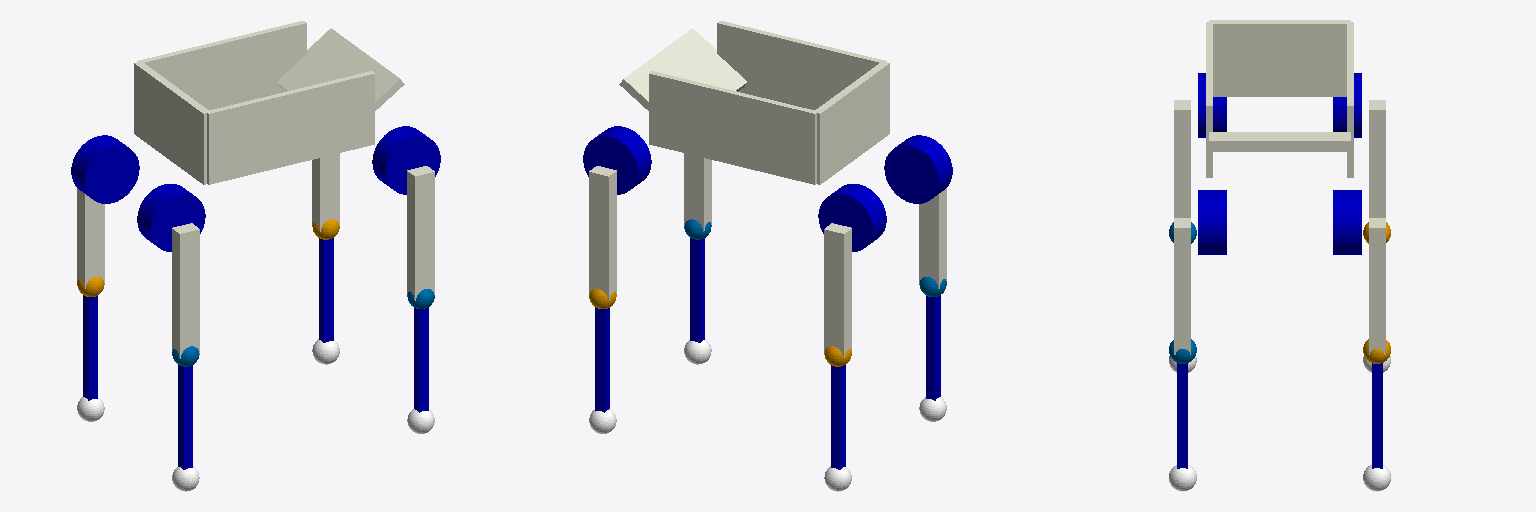
--- What the picture shows (computed from the rendered views, not written in the file) ---
The picture shows the robot from 3 angles, left to right: view 1: azimuth 30°, elevation 25°; view 2: azimuth 150°, elevation 25°; view 3: azimuth 270°, elevation 25°; orthographic projection.
Model wr2 with 19 links and 18 joints (12 revolute, 6 fixed), rooted at base, posed every joint at zero.
Links seen in each view (by area): view 1: trunk, RR_thigh, FR_thigh, RL_hip, FR_hip, RR_hip, RL_thigh, FL_thigh, FR_calf, RL_calf, FL_calf, RR_calf (+4 smaller); view 2: trunk, RL_thigh, FL_thigh, RR_hip, FL_hip, RL_hip, RR_thigh, FR_thigh, FL_calf, RR_calf, FR_calf, RL_calf (+4 smaller); view 3: trunk, FR_thigh, FL_thigh, RR_thigh, RL_thigh, FR_hip, FL_hip, FR_calf, FL_calf, RR_hip, RL_hip, FR_foot (+1 smaller).
Link boxes in pixels (left/top/right/bottom): trunk: left=134, top=21, right=404, bottom=184; RR_thigh: left=172, top=223, right=199, bottom=366; FR_thigh: left=407, top=166, right=434, bottom=308; RL_hip: left=71, top=135, right=139, bottom=203; FR_hip: left=372, top=126, right=440, bottom=194; RR_hip: left=137, top=184, right=205, bottom=251; RL_thigh: left=77, top=188, right=104, bottom=296; FL_thigh: left=312, top=153, right=339, bottom=239; FR_calf: left=414, top=307, right=428, bottom=412; RL_calf: left=83, top=295, right=97, bottom=400; FL_calf: left=319, top=238, right=333, bottom=342; RR_calf: left=178, top=365, right=192, bottom=469; trunk: left=619, top=21, right=889, bottom=184; RL_thigh: left=824, top=223, right=851, bottom=366; FL_thigh: left=589, top=166, right=616, bottom=308; RR_hip: left=884, top=135, right=952, bottom=203; FL_hip: left=583, top=126, right=651, bottom=194; RL_hip: left=818, top=184, right=886, bottom=251; RR_thigh: left=919, top=188, right=946, bottom=296; FR_thigh: left=684, top=153, right=711, bottom=239; FL_calf: left=595, top=307, right=609, bottom=412; RR_calf: left=926, top=295, right=940, bottom=400; FR_calf: left=690, top=238, right=704, bottom=342; RL_calf: left=831, top=365, right=845, bottom=469; trunk: left=1206, top=20, right=1353, bottom=177; FR_thigh: left=1169, top=218, right=1196, bottom=363; FL_thigh: left=1363, top=218, right=1390, bottom=363; RR_thigh: left=1169, top=100, right=1196, bottom=243; RL_thigh: left=1363, top=100, right=1390, bottom=243; FR_hip: left=1198, top=190, right=1226, bottom=254; FL_hip: left=1333, top=190, right=1361, bottom=254; FR_calf: left=1177, top=363, right=1187, bottom=468; FL_calf: left=1372, top=363, right=1382, bottom=468; RR_hip: left=1198, top=73, right=1226, bottom=137; RL_hip: left=1333, top=73, right=1361, bottom=137; FR_foot: left=1169, top=465, right=1196, bottom=491.
Size in the robot's own frame: 0.487 by 0.3164 by 0.577 metres.
0 mesh visuals loaded from 1 distinct referenced files (none loaded); not drawn: 1 (reference not matched to a file when rendering).

The robot description file, URDF, robot "wr2":
<?xml version="1.0" encoding="utf-8"?>
<!-- =================================================================================== -->
<!-- |    This document was autogenerated by xacro from xacro/robot.xacro              | -->
<!-- |    EDITING THIS FILE BY HAND IS NOT RECOMMENDED                                 | -->
<!-- =================================================================================== -->
<robot name="wr2">
  <material name="black">
    <color rgba="0.0 0.0 0.0 1.0"/>
  </material>
  <material name="blue">
    <color rgba="0.0 0.0 0.8 1.0"/>
  </material>
  <material name="green">
    <color rgba="0.0 0.8 0.0 1.0"/>
  </material>
  <material name="grey">
    <color rgba="0.2 0.2 0.2 1.0"/>
  </material>
  <material name="silver">
    <color rgba="0.913725490196 0.913725490196 0.847058823529 1.0"/>
  </material>
  <material name="orange">
    <color rgba="1.0 0.423529411765 0.0392156862745 1.0"/>
  </material>
  <material name="brown">
    <color rgba="0.870588235294 0.811764705882 0.764705882353 1.0"/>
  </material>
  <material name="red">
    <color rgba="0.8 0.0 0.0 1.0"/>
  </material>
  <material name="white">
    <color rgba="1.0 1.0 1.0 1.0"/>
  </material>
 
  <link name="base">
    <visual>
      <origin rpy="0 0 0" xyz="0 0 0"/>
      <geometry>
        <box size="0.001 0.001 0.001"/>
      </geometry>
    </visual>
  </link>
  <joint name="floating_base" type="fixed">
    <origin rpy="0 0 0" xyz="0 0 0"/>
    <parent link="base"/>
    <child link="trunk"/>
  </joint>
  <link name="trunk">
    <visual name="body_visual">
      <origin rpy="0 0 0" xyz="0 0 0"/>
      <geometry>
        <mesh filename="meshes_wr/base_link.STL" scale="1 1 1"/>
        <box size="0.28 0.202 0.114"/>
      </geometry>
      <material name="silver"/>
    </visual>
    <collision name="body_collision">
      <origin rpy="0 0 0" xyz="0 0 0"/>
      <geometry>
        <mesh filename="meshes_wr/base_link.STL" scale="1 1 1"/>
        <box size="0.28 0.202 0.114"/>
      </geometry>
    </collision>
    <visual name="body_visual1">
      <origin rpy="0 0 0" xyz="0 0.1 0.1"/>
      <geometry>
        <!-- <mesh filename="meshes_wr/base_link.STL" scale="1 1 1"/> -->
        <box size="0.28 0.0102 0.114"/>
      </geometry>
      <material name="silver"/>
    </visual>
    <collision name="body_collision1">
      <origin rpy="0 0 0" xyz="0 0.1 0.1"/>
      <geometry>
        <!-- <mesh filename="meshes_wr/base_link.STL" scale="1 1 1"/> -->
        <box size="0.28 0.0102 0.114"/>
      </geometry>
    </collision>
    <visual name="body_visual2">
      <origin rpy="0 0 0" xyz="0 -0.1 0.1"/>
      <geometry>
        <!-- <mesh filename="meshes_wr/base_link.STL" scale="1 1 1"/> -->
        <box size="0.28 0.0102 0.114"/>
      </geometry>
      <material name="silver"/>
    </visual>
    <collision name="body_collision2">
      <origin rpy="0 0 0" xyz="0 -0.1 0.1"/>
      <geometry>
        <!-- <mesh filename="meshes_wr/base_link.STL" scale="1 1 1"/> -->
        <box size="0.28 0.0102 0.114"/>
      </geometry>
    </collision>
    <visual name="body_visual3">
      <origin rpy="0 0 0" xyz="-0.14 0.0 0.1"/>
      <geometry>
        <!-- <mesh filename="meshes_wr/base_link.STL" scale="1 1 1"/> -->
        <box size="0.0128 0.202 0.114"/>
      </geometry>
      <material name="silver"/>
    </visual>
    <collision name="body_collision3">
      <origin rpy="0 0 0" xyz="-0.14 0.0 0.1"/>
      <geometry>
        <!-- <mesh filename="meshes_wr/base_link.STL" scale="1 1 1"/> -->
        <box size="0.0128 0.202 0.114"/>
      </geometry>
    </collision>

    <visual name="body_visual4">
      <origin rpy="0 1. 0" xyz="0.14 0.0 0.1"/>
      <geometry>
        <!-- <mesh filename="meshes_wr/base_link.STL" scale="1 1 1"/> -->
        <box size="0.0128 0.202 0.114"/>
      </geometry>
      <material name="silver"/>
    </visual>
    <collision name="body_collision4">
      <origin rpy="0 1. 0" xyz="0.18 0.0 0.08"/>
      <geometry>
        <!-- <mesh filename="meshes_wr/base_link.STL" scale="1 1 1"/> -->
        <box size="0.0128 0.202 0.114"/>
      </geometry>
    </collision>

    <inertial>
      <origin rpy="0 0 0" xyz="0.00067578 -0.00016652 -0.00017278"/>
      <mass value="4.9532"/>
      <inertia ixx="0.0097737" ixy="1.6081e-06" ixz="6.1042e-06" iyy="0.011213" iyz="2.3576e-05" izz="0.016784"/>
    </inertial>
  </link>
 
  <!-- <link name="base">
    <visual>
      <origin rpy="0 0 0" xyz="0 0 0"/>
      <geometry>
        <box size="0.001 0.001 0.001"/>
      </geometry>
    </visual>
    <inertial>
      <origin rpy="0 0 0" xyz="0.00067578 -0.00016652 -0.00017278"/>
      <mass value="4.9532"/>
      <inertia ixx="0.0097737" ixy="1.6081e-06" ixz="6.1042e-06" iyy="0.011213" iyz="2.3576e-05" izz="0.016784"/>
    </inertial>
  </link>
  <joint name="floating_base" type="fixed">
    <origin rpy="0 0 0" xyz="0 0 0"/>
    <parent link="base"/>
    <child link="trunk"/>
  </joint>
  <link name="trunk">
    <visual name="body_visual">
      <origin rpy="0 0 0" xyz="0 0 0"/>
      <geometry>
        <mesh filename="meshes_wr/base_link.STL" scale="1 1 1"/>
      </geometry>
      <material name="silver"/>
      <origin rpy="0 0 0" xyz="0 0 0"/>
      <geometry>
        <box size="0.28 0.202 0.114"/>
      </geometry>
    </visual>
    <collision name="body_collision">
      <origin rpy="0 0 0" xyz="0 0 0"/>
      <geometry>
        <box size="0.28 0.202 0.114"/>
      </geometry>
    </collision>
  </link> -->
  <joint name="imu_joint" type="fixed">
    <parent link="trunk"/>
    <child link="imu_link"/>
    <origin rpy="0 0 0" xyz="0 0 0"/>
  </joint>
  <link name="imu_link">
    <inertial>
      <mass value="0.001"/>
      <origin rpy="0 0 0" xyz="0 0 0"/>
      <inertia ixx="0.0001" ixy="0" ixz="0" iyy="0.0001" iyz="0" izz="0.0001"/>
    </inertial>
    <visual>
      <origin rpy="0 0 0" xyz="0 0 0"/>
      <geometry>
        <box size="0.001 0.001 0.001"/>
      </geometry>
      <material name="red"/>
    </visual>
    <collision>
      <origin rpy="0 0 0" xyz="0 0 0"/>
      <geometry>
        <box size=".001 .001 .001"/>
      </geometry>
    </collision>
  </link>

  <joint name="FR_hip_joint" type="revolute">
    <origin rpy="0 0 0" xyz="0.1975 -0.05 0"/>
    <parent link="trunk"/>
    <child link="FR_hip"/>
    <axis xyz="1 0 0"/>
    <dynamics damping="0" friction="0"/>
    <limit effort="33.5" lower="-0.785398163397" upper="0.785398163397" velocity="21"/>
  </joint>
  <!-- <link name="FR_hip">
      <inertial>
          <mass value="0.54"/>
          <origin xyz="0.0 0.036 0."/>
          <inertia ixx="0.000381" ixy="0.000058" ixz="0.00000045" 
              iyy="0.000560" iyz="0.00000095" izz="0.000444"/>
      </inertial>
      <visual>
          <geometry>
              <mesh filename="meshes_wr/mini_abad.obj"/>
          </geometry>
          <origin rpy="3.141592 0.0 1.5708" xyz="-0.055 0.0 0.0"/>
      </visual>
      <collision>
          <geometry>
              <mesh filename="meshes_wr/mini_abad.obj"/>
          </geometry>
          <origin rpy="3.141592 0 1.5708" xyz="-0.055 0 0"/>
      </collision>
  </link> -->

  <!-- <link name="FR_hip">
    <visual>
      <origin rpy="1.57079632679 0 0" xyz="0 -0.045 0"/>
      <geometry>
        <cylinder length="0.04" radius="0.046"/>
      </geometry>
      <material name="silver"/>
    </visual>
    <collision>
      <origin rpy="1.57079632679 0 0" xyz="0 -0.045 0"/>
      <geometry>
        <cylinder length="0.04" radius="0.046"/>
      </geometry>
    </collision>
    <inertial>
      <origin rpy="0 0 0" xyz="-0.00541 0.00074 6e-06"/>
      <mass value="0.510299"/>
      <inertia ixx="0.00030528937" ixy="7.788013e-06" ixz="2.2016e-07" iyy="0.000590894859" iyz="1.7175e-08" izz="0.000396594572"/>
    </inertial>
  </link> -->

  <link name="FR_hip">
    <visual name="hip2_visual">
      <origin rpy="3.14159265359 0 0" xyz="0 0 0"/>
      <geometry>
        <mesh filename="meshes_wr/hip1_Link.STL" scale="1 1 1"/>
      </geometry>
      <origin rpy="1.57079632679 0 0" xyz="0 -0.046 0"/>
      <geometry>
        <cylinder length="0.04" radius="0.046"/>
      </geometry>
      <material name="blue"/>
    </visual>
    <collision name="hip2_collision">
      <origin rpy="1.57079632679 0 0" xyz="0 -0.046 0"/>
      <geometry>
        <cylinder length="0.04" radius="0.046"/>
      </geometry>
    </collision>
    <inertial>
      <mass value="0.54"/>
      <origin xyz="0.0 0.036 0."/>
      <inertia ixx="0.000381" ixy="0.000058" ixz="0.00000045" 
          iyy="0.000560" iyz="0.00000095" izz="0.000444"/>
      <origin rpy="0 0 0" xyz="-0.0032616 -0.0049715 0.00038471"/>
      <mass value="0.74362"/>
      <inertia ixx="0.00045939" ixy="1.5543e-05" ixz="6.1403e-07" iyy="0.00075207" iyz="-8.2076e-07" izz="0.00049182"/>
    </inertial>
  </link>
  <joint name="FR_thigh_joint" type="revolute">
    <origin rpy="0 0 0" xyz="0 -0.0882 0"/>
    <parent link="FR_hip"/>
    <child link="FR_thigh"/>
    <axis xyz="0 1 0"/>
    <dynamics damping="0" friction="0"/>
    <limit effort="33.5" lower="-6.28318530718" upper="6.28318530718" velocity="21"/>
  </joint>
  <link name="FR_thigh">
    <visual name="upper2_visual">
      <origin rpy="0 0 0" xyz="0 0 0"/>
      <geometry>
        <mesh filename="meshes_wr/upper0_Link.STL" scale="1 1 1"/>
      </geometry>
      <origin rpy="0 1.57079632679 0" xyz="0 0 -0.1"/>
      <geometry>
        <box size="0.2 0.0245 0.034"/>
      </geometry>
      <material name="silver"/>
    </visual>
    <collision name="upper2_collision">
      <origin rpy="0 1.57079632679 0" xyz="0 0 -0.1"/>
      <geometry>
        <box size="0.2 0.0245 0.034"/>
      </geometry>
    </collision>
    <visual>
        <origin xyz="0 0 -0.2"/>
        <geometry>
            <sphere radius="0.02"/>
        </geometry>
    </visual>
    <collision>
        <origin xyz="0 0 -0.2"/>
        <geometry>
            <sphere radius="0.02"/>
        </geometry>
    </collision>
    <inertial>
      <origin rpy="0 0 0" xyz="-0.0029302 0.022321 -0.020612"/>
      <mass value="0.88958"/>
      <inertia ixx="0.0016427" ixy="-1.0138e-06" ixz="-8.5809e-05" iyy="0.0019549" iyz="-1.1651e-06" izz="0.00049228"/>
    </inertial>
  </link>
  <joint name="FR_calf_joint" type="revolute">
    <origin rpy="0 0 0" xyz="0 0 -0.2"/>
    <parent link="FR_thigh"/>
    <child link="FR_calf"/>
    <axis xyz="0 1 0"/>
    <dynamics damping="0" friction="0"/>
    <limit effort="33.5" lower="-6.28318530718" upper="6.28318530718" velocity="21"/>
  </joint>
  <link name="FR_calf">
    <visual name="lower2_visual">
      <origin rpy="0 0 0" xyz="0 0 0"/>
      <geometry>
        <mesh filename="meshes_wr/lower1_Link.STL" scale="1 1 1"/>
      </geometry>
      <origin rpy="0 1.57079632679 0" xyz="0 0 -0.1"/>
      <geometry>
        <box size="0.2 0.016 0.016"/>
      </geometry>
      <material name="blue"/>
    </visual>
    <collision name="lower2_collision">
      <origin rpy="0 1.57079632679 0" xyz="0 0 -0.1"/>
      <geometry>
        <box size="0.2 0.016 0.016"/>
      </geometry>
    </collision>
    <!-- <visual>
        <origin xyz="0 0 -0.2"/>
        <geometry>
            <sphere radius="0.02"/>
        </geometry>
    </visual>
    <collision>
        <origin xyz="0 0 -0.2"/>
        <geometry>
            <sphere radius="0.02"/>
        </geometry>
    </collision> -->
    <inertial>
      <origin rpy="0 0 0" xyz="0.0065828 -3.477e-05 -0.059038"/>
      <mass value="0.1193"/>
      <inertia ixx="0.00033774" ixy="-1.6102e-10" ixz="4.2063e-05" iyy="0.00034623" iyz="-3.8747e-09" izz="1.4561e-05"/>
    </inertial>
  </link>

  <joint name="FR_foot_fixed" type="fixed" dont_collapse="true">
    <origin rpy="0 0 0" xyz="0 0 -0.2"/>
    <parent link="FR_calf"/>
    <child link="FR_foot"/>
  </joint>
  <link name="FR_foot">
    <visual>
      <origin rpy="0 0 0" xyz="0 0 0"/>
      <geometry>
        <sphere radius="0.02"/>
      </geometry>
      <material name="white"/>
    </visual>
    <collision>
      <origin rpy="0 0 0" xyz="0 0 0"/>
      <geometry>
        <sphere radius="0.02"/>
      </geometry>
    </collision>
    <inertial>
      <mass value="0.06"/>
      <inertia ixx="9.6e-06" ixy="0.0" ixz="0.0" iyy="9.6e-06" iyz="0.0" izz="9.6e-06"/>
    </inertial>
  </link>


  <joint name="FL_hip_joint" type="revolute">
    <origin rpy="0 0 0" xyz="0.1975 0.05 0"/>
    <parent link="trunk"/>
    <child link="FL_hip"/>
    <axis xyz="1 0 0"/>
    <dynamics damping="0" friction="0"/>
    <limit effort="33.5" lower="-0.785398163397" upper="0.785398163397" velocity="21"/>
  </joint>
  <!-- <link name="FL_hip">
      <inertial>
          <mass value="0.54"/>
          <origin xyz="0.0 0.036 0."/>
          <inertia ixx="0.000381" ixy="0.000058" ixz="0.00000045" 
              iyy="0.000560" iyz="0.00000095" izz="0.000444"/>
      </inertial>
      <visual>
          <geometry>
              <mesh filename="meshes_wr/mini_abad.obj"/>
          </geometry>
          <origin rpy="0. 0. -1.5708" xyz="-0.055 0.0 0.0"/>
      </visual>
      <collision>
          <geometry>
              <mesh filename="meshes_wr/mini_abad.obj"/>
          </geometry>
          <origin rpy="0 0 -1.5708" xyz="-0.055 0 0"/>
      </collision>
  </link> -->
  <link name="FL_hip">
    <visual name="hip0_visual">
      <origin rpy="0 0 0" xyz="0 0 0"/>
      <geometry>
        <mesh filename="meshes_wr/hip1_Link.STL" scale="1 1 1"/>
      </geometry>
      <origin rpy="1.57079632679 0 0" xyz="0 0.046 0"/>
      <geometry>
        <cylinder length="0.04" radius="0.046"/>
      </geometry>
      <material name="blue"/>
    </visual>
    <collision name="hip0_collision">
      <origin rpy="1.57079632679 0 0" xyz="0 0.046 0"/>
      <geometry>
        <cylinder length="0.04" radius="0.046"/>
      </geometry>
    </collision>
    <inertial>
      <origin rpy="0 0 0" xyz="-0.0032616 0.0049715 0.00038471"/>
      <mass value="0.74362"/>
      <inertia ixx="0.00045939" ixy="-1.5543e-05" ixz="6.1403e-07" iyy="0.00075207" iyz="8.2076e-07" izz="0.00049182"/>
    </inertial>
  </link>

  <!-- <link name="FL_hip">
    <visual>
      <origin rpy="1.57079632679 0 0" xyz="0 0.045 0"/>
      <geometry>
        <cylinder length="0.04" radius="0.046"/>
      </geometry>
      <material name="silver"/>
    </visual>
    <collision>
      <origin rpy="1.57079632679 0 0" xyz="0 0.046 0"/>
      <geometry>
        <cylinder length="0.04" radius="0.046"/>
      </geometry>
    </collision>
    <inertial>
      <origin rpy="0 0 0" xyz="-0.00541 -0.00074 6e-06"/>
      <mass value="0.510299"/>
      <inertia ixx="0.00030528937" ixy="-7.788013e-06" ixz="2.2016e-07" iyy="0.000590894859" iyz="-1.7175e-08" izz="0.000396594572"/>
    </inertial>
  </link> -->

  <joint name="FL_thigh_joint" type="revolute">
    <origin rpy="0 0 0" xyz="0 0.0882 0"/>
    <parent link="FL_hip"/>
    <child link="FL_thigh"/>
    <axis xyz="0 1 0"/>
    <dynamics damping="0" friction="0"/>
    <limit effort="33.5" lower="-6.28318530718" upper="6.28318530718" velocity="21"/>
  </joint>
  <link name="FL_thigh">
    <visual name="upper0_visual">
      <origin rpy="0 0 0" xyz="0 0 0"/>
      <geometry>
        <mesh filename="meshes_wr/upper1_Link.STL" scale="1 1 1"/>
      </geometry>
      <origin rpy="0 1.57079632679 0" xyz="0 0 -0.1"/>
      <geometry>
        <box size="0.2 0.0245 0.034"/>
      </geometry>
      <material name="silver"/>
    </visual>
    <collision name="upper0_collision">
      <origin rpy="0 1.57079632679 0" xyz="0 0 -0.1"/>
      <geometry>
        <box size="0.2 0.0245 0.034"/>
      </geometry>
    </collision>
    <visual>
        <origin xyz="0 0 -0.2"/>
        <geometry>
            <sphere radius="0.02"/>
        </geometry>
    </visual>
    <collision>
        <origin xyz="0 0 -0.2"/>
        <geometry>
            <sphere radius="0.02"/>
        </geometry>
    </collision>
    <inertial>
      <origin rpy="0 0 0" xyz="-0.0029302 -0.022321 -0.020612"/>
      <mass value="0.88958"/>
      <inertia ixx="0.0016427" ixy="1.0138e-06" ixz="-8.5809e-05" iyy="0.0019549" iyz="1.1651e-06" izz="0.00049228"/>
    </inertial>
  </link>
  <joint name="FL_calf_joint" type="revolute">
    <origin rpy="0 0 0" xyz="0 0 -0.2"/>
    <parent link="FL_thigh"/>
    <child link="FL_calf"/>
    <axis xyz="0 1 0"/>
    <dynamics damping="0" friction="0"/>
    <limit effort="33.5" lower="-6.28318530718" upper="6.28318530718" velocity="21"/>
  </joint>
  <link name="FL_calf">
    <visual name="lower0_visual">
      <origin rpy="0 0 0" xyz="0 0 0"/>
      <geometry>
        <mesh filename="meshes_wr/lower1_Link.STL" scale="1 1 1"/>
      </geometry>
      <origin rpy="0 1.57079632679 0" xyz="0 0 -0.1"/>
      <geometry>
        <box size="0.2 0.016 0.016"/>
      </geometry>
      <material name="blue"/>
    </visual>
    <collision name="lower0_collision">
      <origin rpy="0 1.57079632679 0" xyz="0 0 -0.1"/>
      <geometry>
        <box size="0.2 0.016 0.016"/>
      </geometry>
    </collision>
    <!-- <visual>
        <origin xyz="0 0 -0.2"/>
        <geometry>
            <sphere radius="0.02"/>
        </geometry>
    </visual>
    <collision>
        <origin xyz="0 0 -0.2"/>
        <geometry>
            <sphere radius="0.02"/>
        </geometry>
    </collision> -->
    <inertial>
      <origin rpy="0 0 0" xyz="0.0065828 -3.477e-05 -0.059038"/>
      <mass value="0.1193"/>
      <inertia ixx="0.00033774" ixy="-1.6102e-10" ixz="4.2063e-05" iyy="0.00034623" iyz="-3.8747e-09" izz="1.4561e-05"/>
    </inertial>
  </link>
  <joint name="FL_foot_fixed" type="fixed" dont_collapse="true">
    <origin rpy="0 0 0" xyz="0 0 -0.2"/>
    <parent link="FL_calf"/>
    <child link="FL_foot"/>
  </joint>
  <link name="FL_foot">
    <visual>
      <origin rpy="0 0 0" xyz="0 0 0"/>
      <geometry>
        <sphere radius="0.02"/>
      </geometry>
      <material name="white"/>
    </visual>
    <collision>
      <origin rpy="0 0 0" xyz="0 0 0"/>
      <geometry>
        <sphere radius="0.02"/>
      </geometry>
    </collision>
    <inertial>
      <mass value="0.06"/>
      <inertia ixx="9.6e-06" ixy="0.0" ixz="0.0" iyy="9.6e-06" iyz="0.0" izz="9.6e-06"/>
    </inertial>
  </link>

  
  <joint name="RR_hip_joint" type="revolute">
    <origin rpy="0 0 0" xyz="-0.1975 -0.05 0"/>
    <parent link="trunk"/>
    <child link="RR_hip"/>
    <axis xyz="1 0 0"/>
    <dynamics damping="0.5" friction="0"/>
    <limit effort="33.5" lower="-0.785398163397" upper="0.785398163397" velocity="21"/>
    <!-- <limit effort="18" lower="-1.6" upper="1.6" velocity="40"/> -->
  </joint>
  <!-- <link name="RR_hip">
      <inertial>
          <mass value="0.54"/>
          <origin xyz="0.0 0.036 0."/>
          <inertia ixx="0.000381" ixy="0.000058" ixz="0.00000045" 
              iyy="0.000560" iyz="0.00000095" izz="0.000444"/>
      </inertial>
      <visual>
          <geometry>
              <mesh filename="meshes_wr/mini_abad.obj"/>
          </geometry>
          <origin rpy="0.0 0.0 1.5708" xyz="0.055 0.0 0.0"/>
      </visual>
      <collision>
          <geometry>
              <mesh filename="meshes_wr/mini_abad.obj"/>
          </geometry>
          <origin rpy="0 0 1.5708" xyz="0.055 0 0"/>
      </collision>
  </link> -->
  <link name="RR_hip">
    <visual name="hip3_visual">
      <origin rpy="3.14159265359 3.14159265359 0" xyz="0 0 0"/>
      <geometry>
        <mesh filename="meshes_wr/hip1_Link.STL" scale="1 1 1"/>
      </geometry>
      <origin rpy="1.57079632679 0 0" xyz="0 -0.046 0"/>
      <geometry>
        <cylinder length="0.04" radius="0.046"/>
      </geometry>
      <material name="blue"/>
    </visual>
    <collision name="hip3_collision">
      <origin rpy="1.57079632679 0 0" xyz="0 -0.046 0"/>
      <geometry>
        <cylinder length="0.04" radius="0.046"/>
      </geometry>
    </collision>
    <inertial>
      <origin rpy="0 0 0" xyz="0.0032616 -0.0049715 0.00038471"/>
      <mass value="0.74362"/>
      <inertia ixx="0.00045939" ixy="-1.5543e-05" ixz="-6.1403e-07" iyy="0.00075207" iyz="-8.2076e-07" izz="0.00049182"/>
    </inertial>
  </link>

  <!-- <link name="RR_hip">
    <visual>
      <origin rpy="1.57079632679 0 0" xyz="0 -0.045 0"/>
      <geometry>
        <cylinder length="0.04" radius="0.046"/>
      </geometry>
      <material name="silver"/>
    </visual>
    <collision>
      <origin rpy="1.57079632679 0 0" xyz="0 -0.045 0"/>
      <geometry>
        <cylinder length="0.04" radius="0.046"/>
      </geometry>
    </collision>
    <inertial>
      <origin rpy="0 0 0" xyz="0.00541 0.00074 6e-06"/>
      <mass value="0.510299"/>
      <inertia ixx="0.00030528937" ixy="-7.788013e-06" ixz="-2.2016e-07" iyy="0.000590894859" iyz="1.7175e-08" izz="0.000396594572"/>
    </inertial>
  </link> -->

  <joint name="RR_thigh_joint" type="revolute">
    <origin rpy="0 0 0" xyz="0 -0.0882 0"/>
    <parent link="RR_hip"/>
    <child link="RR_thigh"/>
    <axis xyz="0 1 0"/>
    <dynamics damping="0" friction="0"/>
    <limit effort="33.5" lower="-6.28318530718" upper="6.28318530718" velocity="21"/>
  </joint>
  <link name="RR_thigh">
    <visual name="upper3_visual">
      <origin rpy="0 0 0" xyz="0 0 0"/>
      <geometry>
        <mesh filename="meshes_wr/upper0_Link.STL" scale="1 1 1"/>
      </geometry>
      <origin rpy="0 1.57079632679 0" xyz="0 0 -0.1"/>
      <geometry>
        <box size="0.2 0.0245 0.034"/>
      </geometry>
      <material name="silver"/>
    </visual>
    <collision name="upper3_collision">
      <origin rpy="0 1.57079632679 0" xyz="0 0 -0.1"/>
      <geometry>
        <box size="0.2 0.0245 0.034"/>
      </geometry>
    </collision>
    <visual>
        <origin xyz="0 0 -0.2"/>
        <geometry>
            <sphere radius="0.02"/>
        </geometry>
    </visual>
    <collision>
        <origin xyz="0 0 -0.2"/>
        <geometry>
            <sphere radius="0.02"/>
        </geometry>
    </collision>
    <inertial>
      <origin rpy="0 0 0" xyz="-0.0029302 0.022321 -0.020612"/>
      <mass value="0.88958"/>
      <inertia ixx="0.0016427" ixy="-1.0138e-06" ixz="-8.5809e-05" iyy="0.0019549" iyz="-1.1651e-06" izz="0.00049228"/>
    </inertial>
  </link>
  <joint name="RR_calf_joint" type="revolute">
    <origin rpy="0 0 0" xyz="0 0 -0.2"/>
    <parent link="RR_thigh"/>
    <child link="RR_calf"/>
    <axis xyz="0 1 0"/>
    <dynamics damping="0" friction="0"/>
    <limit effort="33.5" lower="-6.28318530718" upper="6.28318530718" velocity="21"/>
  </joint>
  <link name="RR_calf">
    <visual name="lower3_visual">
      <origin rpy="0 0 0" xyz="0 0 0"/>
      <geometry>
        <mesh filename="meshes_wr/lower1_Link.STL" scale="1 1 1"/>
      </geometry>
      <origin rpy="0 1.57079632679 0" xyz="0 0 -0.1"/>
      <geometry>
        <box size="0.2 0.016 0.016"/>
      </geometry>
      
      <material name="blue"/>
    </visual>
    <!-- <visual>
      <origin xyz="0 0 -0.2"/>
      <geometry>
          <sphere radius="0.02"/>
      </geometry>
    </visual> -->
    <collision name="lower3_collision">
      <origin rpy="0 1.57079632679 0" xyz="0 0 -0.1"/>
      <geometry>
        <box size="0.2 0.016 0.016"/>
      </geometry>
    </collision>
    <!-- <collision>
        <origin xyz="0 0 -0.2"/>
        <geometry>
            <sphere radius="0.02"/>
        </geometry>
    </collision> -->
    <inertial>
      <origin rpy="0 0 0" xyz="0.0065828 -3.477e-05 -0.059038"/>
      <mass value="0.1193"/>
      <inertia ixx="0.00033774" ixy="-1.6102e-10" ixz="4.2063e-05" iyy="0.00034623" iyz="-3.8747e-09" izz="1.4561e-05"/>
    </inertial>
  </link>
  <joint name="RR_foot_fixed" type="fixed" dont_collapse="true">
    <origin rpy="0 0 0" xyz="0 0 -0.2"/>
    <parent link="RR_calf"/>
    <child link="RR_foot"/>
  </joint>
  <link name="RR_foot">
    <visual>
      <origin rpy="0 0 0" xyz="0 0 0"/>
      <geometry>
        <sphere radius="0.02"/>
      </geometry>
      <material name="white"/>
    </visual>
    <collision>
      <origin rpy="0 0 0" xyz="0 0 0"/>
      <geometry>
        <sphere radius="0.02"/>
      </geometry>
    </collision>
    <inertial>
      <mass value="0.06"/>
      <inertia ixx="9.6e-06" ixy="0.0" ixz="0.0" iyy="9.6e-06" iyz="0.0" izz="9.6e-06"/>
    </inertial>
  </link>

  <joint name="RL_hip_joint" type="revolute">
    <origin rpy="0 0 0" xyz="-0.1975 0.05 0"/>
    <parent link="trunk"/>
    <child link="RL_hip"/>
    <axis xyz="1 0 0"/>
    <dynamics damping="0" friction="0"/>
    <limit effort="33.5" lower="-0.785398163397" upper="0.785398163397" velocity="21"/>
  </joint>
  <!-- <link name="RL_hip">
      <inertial>
          <mass value="0.54"/>
          <origin xyz="0.0 0.036 0."/>
          <inertia ixx="0.000381" ixy="0.000058" ixz="0.00000045" 
              iyy="0.000560" iyz="0.00000095" izz="0.000444"/>
      </inertial>
      <visual>
          <geometry>
              <mesh filename="meshes_wr/mini_abad.obj"/>
          </geometry>
          <origin rpy="3.141592 0.0 -1.5708" xyz="0.055 0.0 0.0"/>
      </visual>
      <collision>
          <geometry>
              <mesh filename="meshes_wr/mini_abad.obj"/>
          </geometry>
          <origin rpy="3.141592 0 -1.5708" xyz="0.055 0 0"/>
      </collision>
  </link> -->
  <link name="RL_hip">
    <visual name="hip1_visual">
      <origin rpy="0 3.14159265359 0" xyz="0 0 0"/>
      <geometry>
        <mesh filename="meshes_wr/hip1_Link.STL" scale="1 1 1"/>
      </geometry>
      <origin rpy="1.57079632679 0 0" xyz="0 0.046 0"/>
      <geometry>
        <cylinder length="0.04" radius="0.046"/>
      </geometry>
      <material name="blue"/>
    </visual>
    <collision name="hip1_collision">
      <origin rpy="1.57079632679 0 0" xyz="0 0.046 0"/>
      <geometry>
        <cylinder length="0.04" radius="0.046"/>
      </geometry>
    </collision>
    <inertial>
      <origin rpy="0 0 0" xyz="0.0032616 0.0049715 0.00038471"/>
      <mass value="0.74362"/>
      <inertia ixx="0.00045939" ixy="1.5543e-05" ixz="-6.1403e-07" iyy="0.00075207" iyz="8.2076e-07" izz="0.00049182"/>
    </inertial>
  </link>

  <!-- <link name="RL_hip">
    <visual>
      <origin rpy="1.57079632679 0 0" xyz="0 0.045 0"/>
      <geometry>
        <cylinder length="0.04" radius="0.046"/>
      </geometry>
      <material name="silver"/>
    </visual>
    <collision>
      <origin rpy="1.57079632679 0 0" xyz="0 0.045 0"/>
      <geometry>
        <cylinder length="0.04" radius="0.046"/>
      </geometry>
    </collision>
    <inertial>
      <origin rpy="0 0 0" xyz="0.00541 -0.00074 6e-06"/>
      <mass value="0.510299"/>
      <inertia ixx="0.00030528937" ixy="7.788013e-06" ixz="-2.2016e-07" iyy="0.000590894859" iyz="-1.7175e-08" izz="0.000396594572"/>
    </inertial>
  </link> -->


  <joint name="RL_thigh_joint" type="revolute">
    <origin rpy="0 0 0" xyz="0 0.0882 0"/>
    <parent link="RL_hip"/>
    <child link="RL_thigh"/>
    <axis xyz="0 1 0"/>
    <dynamics damping="0" friction="0"/>
    <limit effort="33.5" lower="-6.28318530718" upper="6.28318530718" velocity="21"/>
  </joint>
  <link name="RL_thigh">
    <visual name="upper1_visual">
      <origin rpy="0 0 0" xyz="0 0 0"/>
      <geometry>
        <mesh filename="meshes_wr/upper1_Link.STL" scale="1 1 1"/>
      </geometry>
      <origin rpy="0 1.57079632679 0" xyz="0 0 -0.1"/>
      <geometry>
        <box size="0.2 0.0245 0.034"/>
      </geometry>
      <material name="silver"/>
    </visual>
    <collision name="upper1_collision">
      <origin rpy="0 1.57079632679 0" xyz="0 0 -0.1"/>
      <geometry>
        <box size="0.2 0.0245 0.034"/>
      </geometry>
    </collision>
    <visual>
        <origin xyz="0 0 -0.2"/>
        <geometry>
            <sphere radius="0.02"/>
        </geometry>
    </visual>
    <collision>
        <origin xyz="0 0 -0.2"/>
        <geometry>
            <sphere radius="0.02"/>
        </geometry>
    </collision>
    <inertial>
      <origin rpy="0 0 0" xyz="-0.0029302 -0.022321 -0.020612"/>
      <mass value="0.88958"/>
      <inertia ixx="0.0016427" ixy="1.0138e-06" ixz="-8.5809e-05" iyy="0.0019549" iyz="1.1651e-06" izz="0.00049228"/>
    </inertial>
  </link>
  <joint name="RL_calf_joint" type="revolute">
    <origin rpy="0 0 0" xyz="0 0 -0.2"/>
    <parent link="RL_thigh"/>
    <child link="RL_calf"/>
    <axis xyz="0 1 0"/>
    <dynamics damping="0" friction="0"/>
    <limit effort="33.5" lower="-6.28318530718" upper="6.28318530718" velocity="21"/>
  </joint>
  <link name="RL_calf">
    <visual name="lower1_visual">
      <origin rpy="0 0 0" xyz="0 0 0"/>
      <geometry>
        <mesh filename="meshes_wr/lower1_Link.STL" scale="1 1 1"/>
      </geometry>
      <origin rpy="0 1.57079632679 0" xyz="0 0 -0.1"/>
      <geometry>
        <box size="0.2 0.016 0.016"/>
      </geometry>
      <material name="blue"/>
    </visual>
    <!-- <visual>
        <origin xyz="0 0 -0.2"/>
        <geometry>
            <sphere radius="0.02"/>
        </geometry>
    </visual> -->
    <collision name="lower1_collision">
      <origin rpy="0 1.57079632679 0" xyz="0 0 -0.1"/>
      <geometry>
        <box size="0.2 0.016 0.016"/>
      </geometry>
    </collision>
    <!-- <collision>
        <origin xyz="0 0 -0.2"/>
        <geometry>
            <sphere radius="0.02"/>
        </geometry>
    </collision> -->
    <inertial>
      <origin rpy="0 0 0" xyz="0.0065828 -3.477e-05 -0.059038"/>
      <mass value="0.1193"/>
      <inertia ixx="0.00033774" ixy="-1.6102e-10" ixz="4.2063e-05" iyy="0.00034623" iyz="-3.8747e-09" izz="1.4561e-05"/>
    </inertial>
  </link>
  <joint name="RL_foot_fixed" type="fixed" dont_collapse="true">
    <origin rpy="0 0 0" xyz="0 0 -0.2"/>
    <parent link="RL_calf"/>
    <child link="RL_foot"/>
  </joint>
  <link name="RL_foot">
    <visual>
      <origin rpy="0 0 0" xyz="0 0 0"/>
      <geometry>
        <sphere radius="0.02"/>
      </geometry>
      <material name="white"/>
    </visual>
    <collision>
      <origin rpy="0 0 0" xyz="0 0 0"/>
      <geometry>
        <sphere radius="0.02"/>
      </geometry>
    </collision>
    <inertial>
      <mass value="0.06"/>
      <inertia ixx="9.6e-06" ixy="0.0" ixz="0.0" iyy="9.6e-06" iyz="0.0" izz="9.6e-06"/>
    </inertial>
  </link>
  
</robot>
